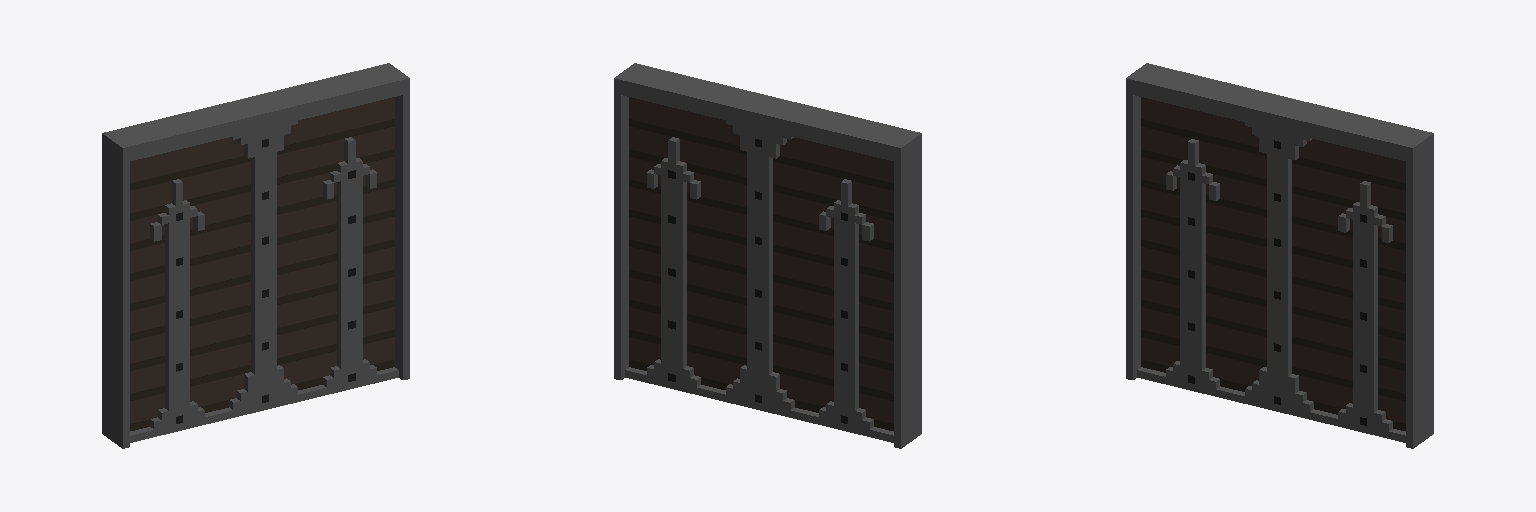
3 renders of one model, left to right at view 1: azimuth 30°, elevation 25°; view 2: azimuth 150°, elevation 25°; view 3: azimuth 330°, elevation 25°, orthographic.
Parts seen in each view (by area): view 1: object 1; view 2: object 1; view 3: object 1.
Boxes of the visible parts, x1,y1,x2,y2 form: object 1: [102, 63, 409, 448]; object 1: [614, 63, 921, 448]; object 1: [1126, 63, 1433, 448].
Bounding box in the file's own units: 4 × 4 × 0.5.
1 materials, 1 textured.